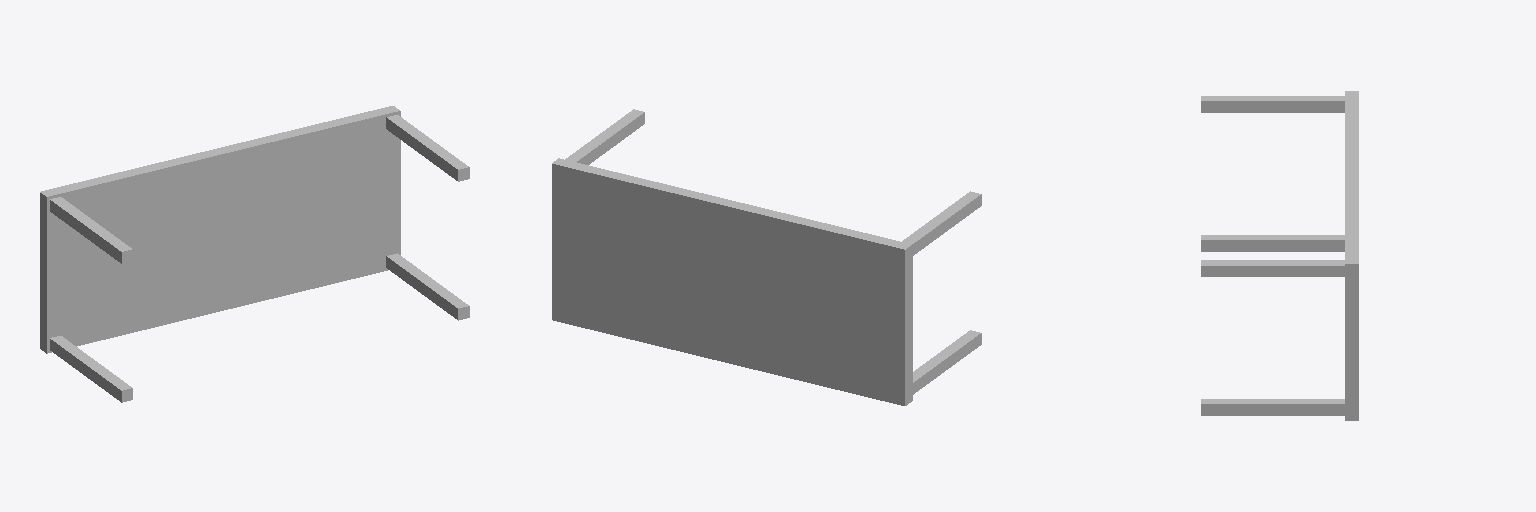
File: random_table39.obj
The picture shows the model from 3 angles: view 1: azimuth 30°, elevation 25°; view 2: azimuth 150°, elevation 25°; view 3: azimuth 270°, elevation 25°; orthographic projection.
Visible parts, largest first — view 1: Table_Cube.390, TableLeg0_Cube.391, TableLeg2_Cube.393, TableLeg1_Cube.392, TableLeg3_Cube.394; view 2: Table_Cube.390, TableLeg1_Cube.392, TableLeg3_Cube.394, TableLeg0_Cube.391; view 3: Table_Cube.390, TableLeg0_Cube.391, TableLeg1_Cube.392, TableLeg2_Cube.393, TableLeg3_Cube.394.
Boxes of the visible parts, x1,y1,x2,y2 form: Table_Cube.390: [40, 106, 400, 353]; TableLeg0_Cube.391: [386, 115, 469, 181]; TableLeg2_Cube.393: [386, 253, 469, 320]; TableLeg1_Cube.392: [50, 197, 132, 263]; TableLeg3_Cube.394: [50, 336, 132, 402]; Table_Cube.390: [552, 158, 912, 405]; TableLeg1_Cube.392: [902, 191, 981, 255]; TableLeg3_Cube.394: [913, 330, 981, 394]; TableLeg0_Cube.391: [565, 109, 644, 164]; Table_Cube.390: [1345, 91, 1358, 420]; TableLeg0_Cube.391: [1201, 260, 1344, 276]; TableLeg1_Cube.392: [1201, 96, 1344, 112]; TableLeg2_Cube.393: [1201, 399, 1344, 415]; TableLeg3_Cube.394: [1201, 235, 1344, 251].
Size of the model in its own units: 10.97 by 4.64 by 4.26.